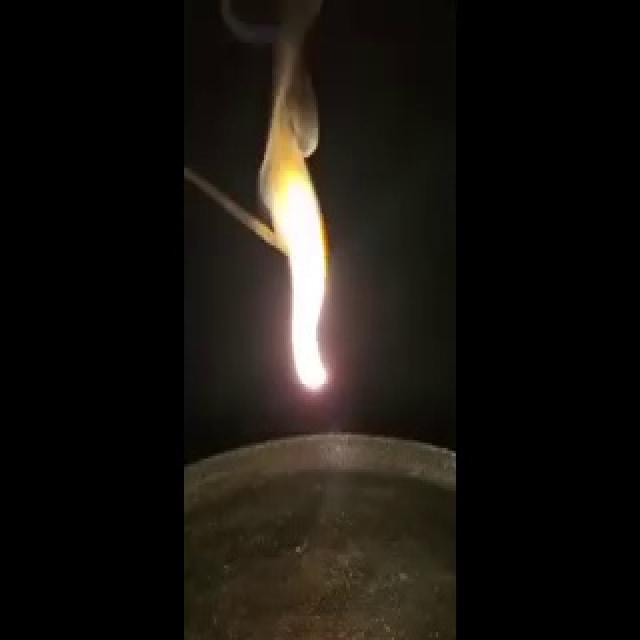fire: (259, 57, 343, 380)
